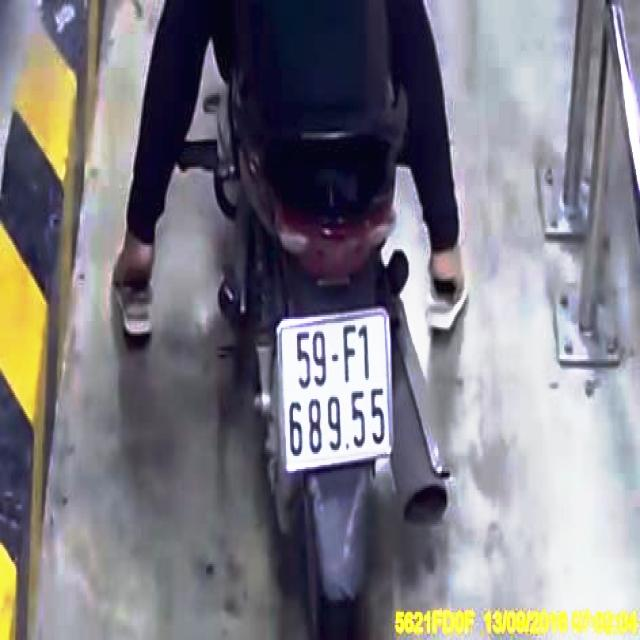license_plate: (279, 314, 393, 470)
